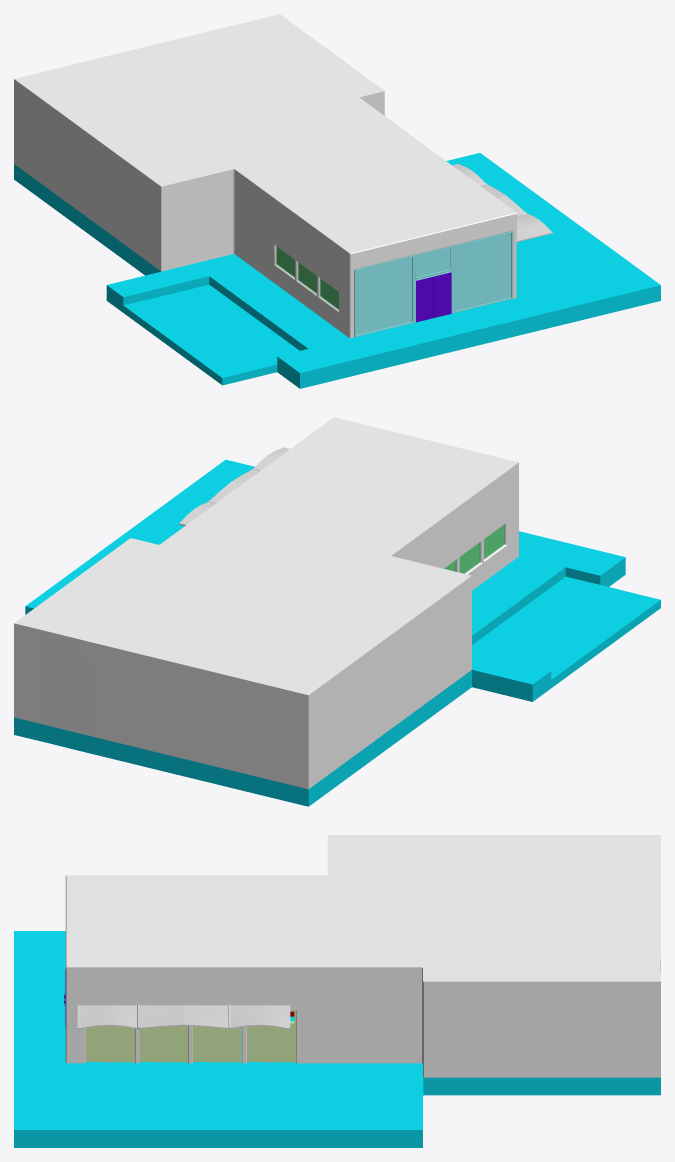
The model's file is BuildingLow.fbx.
3 views of the same model, one above another, from view 1: azimuth 30°, elevation 25°; view 2: azimuth 150°, elevation 25°; view 3: azimuth 270°, elevation 25° (orthographic). The views are drawn at different scales.
Parts seen in each view (by area): view 1: Building, FrontWall, Roof, FrontDoor_R, FrontDoor_L; view 2: Building, Roof; view 3: Building, GlassWall_S_Window (×4), Roof.
Part boxes in pixels (left/top/right/bottom): Building: left=14, top=14, right=660, bottom=388; FrontWall: left=354, top=231, right=512, bottom=337; Roof: left=452, top=164, right=552, bottom=242; FrontDoor_R: left=433, top=272, right=451, bottom=317; FrontDoor_L: left=416, top=276, right=433, bottom=322; Building: left=14, top=417, right=660, bottom=806; Roof: left=178, top=447, right=289, bottom=525; Building: left=14, top=835, right=660, bottom=1147; GlassWall_S_Window (×4): left=85, top=1010, right=295, bottom=1062; Roof: left=77, top=1004, right=290, bottom=1029.
Size of the model in its own units: 2279 by 527 by 2718.
